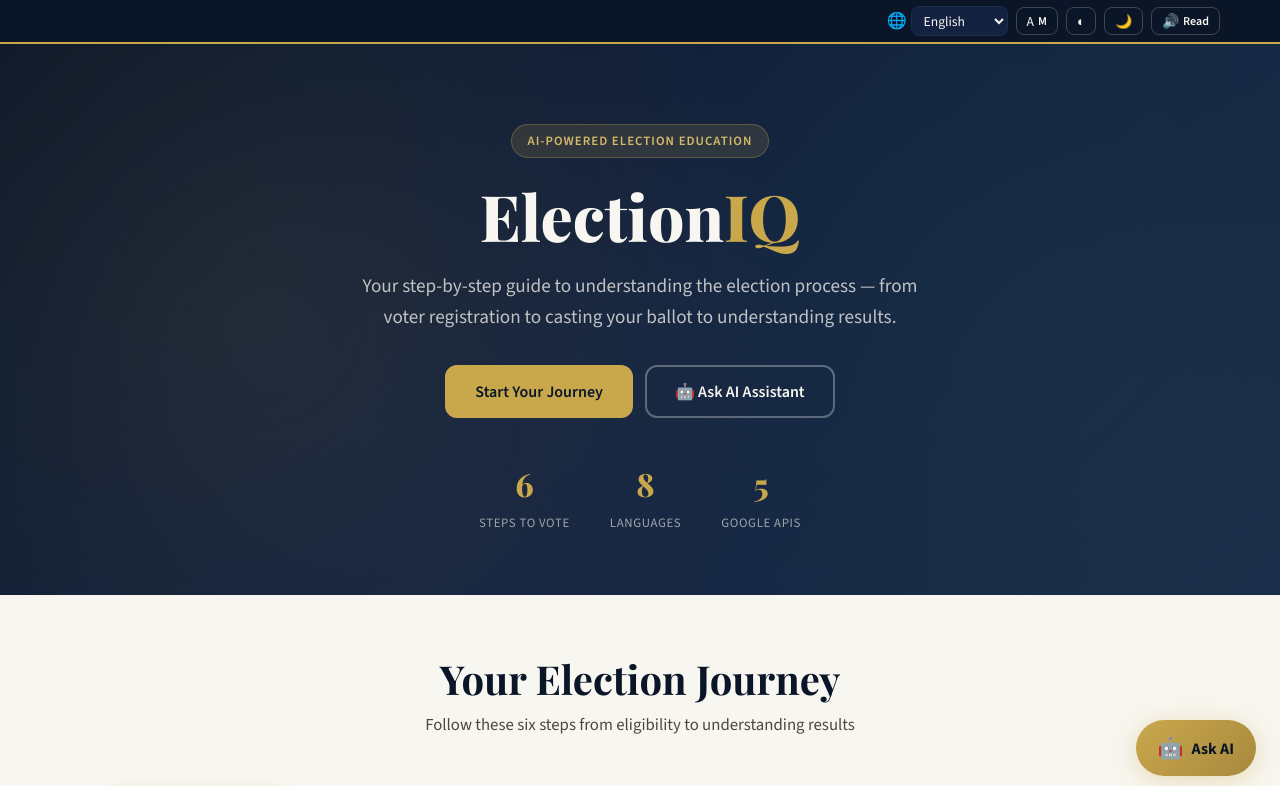
Scenario: Chat toggle › opens chat when Ask AI button clicked
Click the button with aria-label "Open AI assistant": (740, 392) [645, 365, 835, 418]
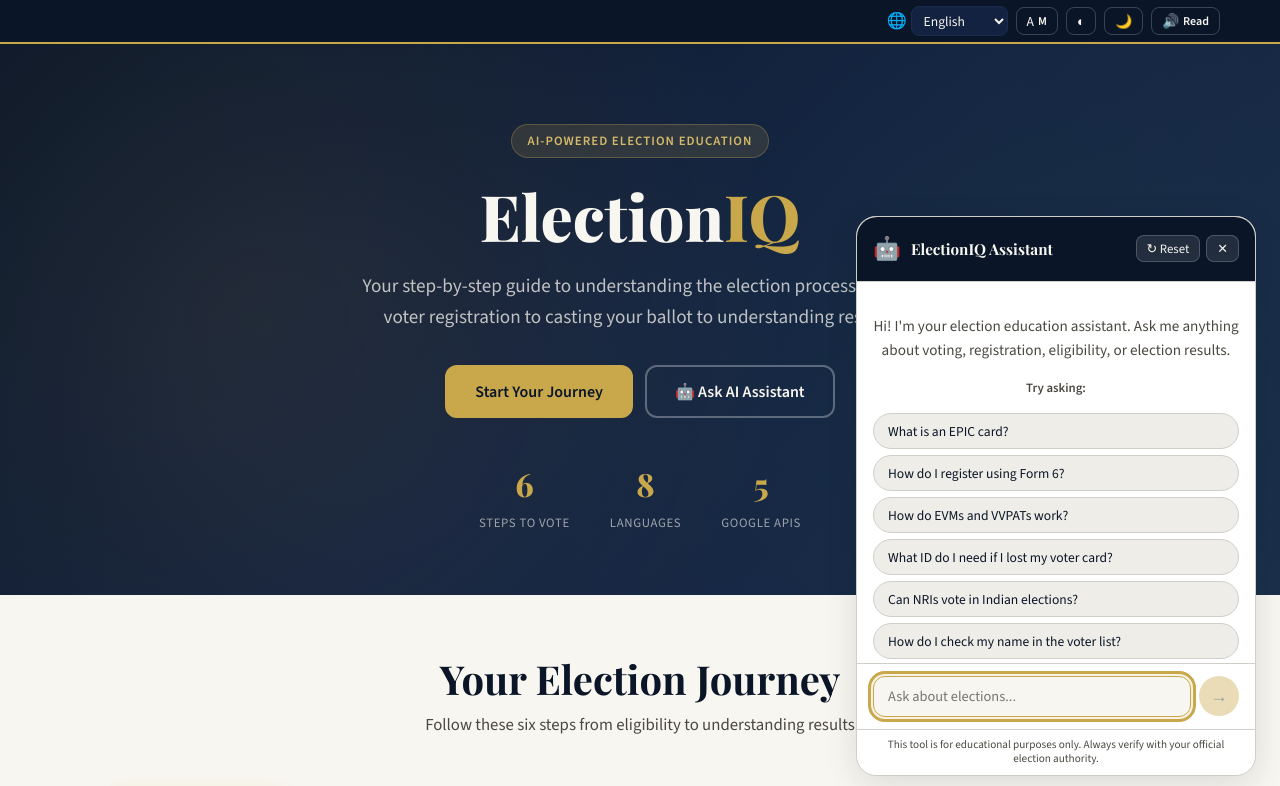
Expected: the dialog is shown, [856, 216, 1256, 776]
